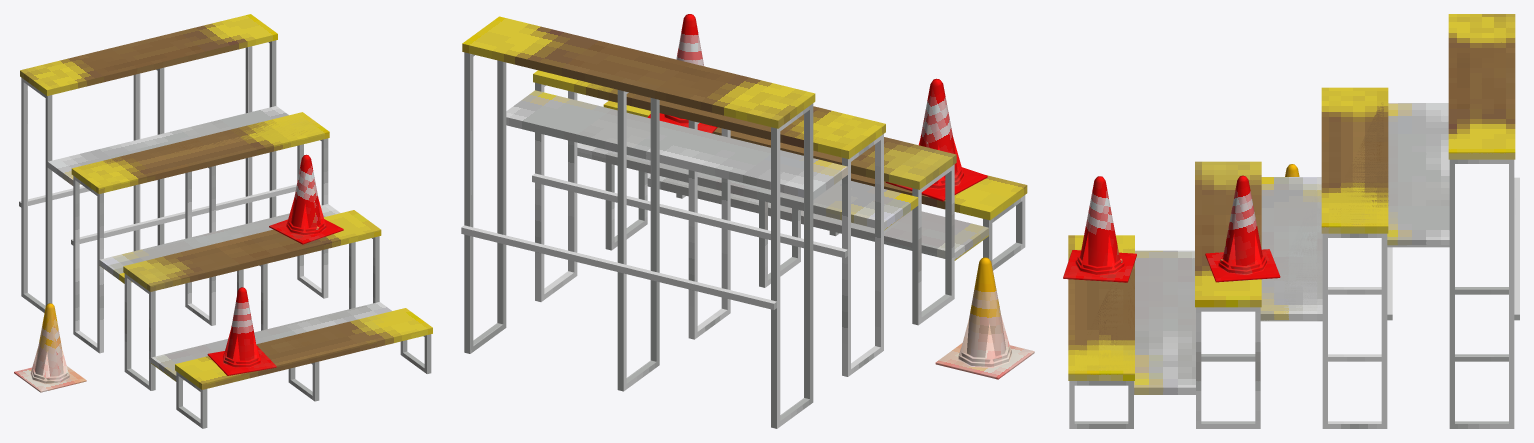
The model's file is objects_un_base_obstacle03.gltf.
3 renders of one model, left to right at view 1: azimuth 30°, elevation 25°; view 2: azimuth 150°, elevation 25°; view 3: azimuth 270°, elevation 25°, orthographic. The views are drawn at different scales.
Parts seen in each view (by area): view 1: um_objects_un_base_obstacle03_model_lod0Shape:objects_un_bas (×2), um_objects_un_base_obstacle03_model_lod2Shape:objects_un_bas (×2); view 2: um_objects_un_base_obstacle03_model_lod0Shape:objects_un_bas (×2), um_objects_un_base_obstacle03_model_lod2Shape:objects_un_bas (×2); view 3: um_objects_un_base_obstacle03_model_lod0Shape:objects_un_bas (×2), um_objects_un_base_obstacle03_model_lod2Shape:objects_un_bas (×2), um_objects_un_base_obstacle03_model_lod1Shape:objects_un_bas.
Part boxes in pixels (bbox=[...]): um_objects_un_base_obstacle03_model_lod0Shape:objects_un_bas (×2): bbox=[14, 14, 432, 428]; um_objects_un_base_obstacle03_model_lod2Shape:objects_un_bas (×2): bbox=[31, 35, 417, 389]; um_objects_un_base_obstacle03_model_lod0Shape:objects_un_bas (×2): bbox=[461, 14, 1034, 428]; um_objects_un_base_obstacle03_model_lod2Shape:objects_un_bas (×2): bbox=[536, 70, 1010, 367]; um_objects_un_base_obstacle03_model_lod0Shape:objects_un_bas (×2): bbox=[1063, 14, 1519, 428]; um_objects_un_base_obstacle03_model_lod2Shape:objects_un_bas (×2): bbox=[1070, 98, 1496, 373]; um_objects_un_base_obstacle03_model_lod1Shape:objects_un_bas: bbox=[1068, 152, 1518, 394].
Size of the model in its own units: 3.58 by 2.45 by 3.66.
Materials: 2 (2 with a texture image).
